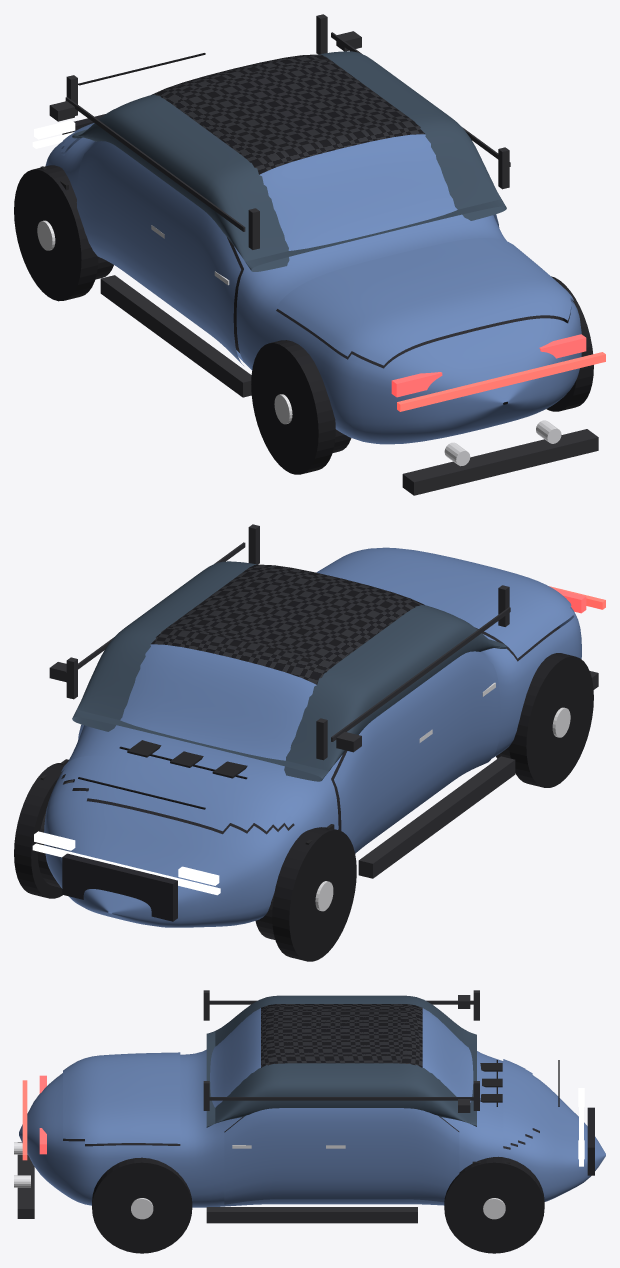
Rendered from car_gen_sedan.glb.
3 renders of one model, top to bottom at view 1: azimuth 30°, elevation 25°; view 2: azimuth 150°, elevation 25°; view 3: azimuth 270°, elevation 25°, orthographic. The views are drawn at different scales.
Visible parts, largest first — view 1: Body, Boot, Window, Door.001, Arch.003, Arch.001, Diffuser, Skirt, Rear_Light_Bar, Interior, Arch, Trim_Line.004 (+2 smaller); view 2: Body, Window, Door.001, Boot, Bonnet, Arch.001, Arch.003, Skirt, Grille, Arch.002, Interior, Trim_Line.004 (+1 smaller); view 3: Body, Door, Window, Boot, Arch.002, Arch, Skirt.001, Bonnet, Trim_Line.005, Diffuser, Grille, Interior (+4 smaller).
Part boxes in pixels (x1,y1,x2,y2): Body: [45, 54, 581, 444]; Boot: [276, 238, 573, 365]; Window: [72, 51, 506, 271]; Door.001: [76, 141, 243, 365]; Arch.003: [251, 340, 335, 474]; Arch.001: [14, 165, 98, 301]; Diffuser: [402, 429, 598, 495]; Skirt: [100, 275, 251, 397]; Rear_Light_Bar: [397, 352, 605, 411]; Interior: [227, 237, 563, 404]; Arch: [546, 276, 593, 411]; Trim_Line.004: [65, 97, 245, 231]; Body: [44, 564, 581, 927]; Window: [72, 561, 506, 781]; Door.001: [334, 651, 500, 853]; Boot: [316, 547, 574, 658]; Bonnet: [61, 755, 294, 831]; Arch.001: [272, 827, 356, 961]; Arch.003: [509, 653, 593, 787]; Skirt: [358, 756, 515, 878]; Grille: [62, 853, 177, 921]; Arch.002: [14, 763, 74, 898]; Interior: [72, 626, 559, 834]; Trim_Line.004: [331, 607, 510, 741]; Body: [19, 1004, 605, 1207]; Door: [224, 1108, 459, 1204]; Window: [206, 995, 476, 1127]; Boot: [63, 1052, 180, 1143]; Arch.002: [444, 1156, 544, 1253]; Arch: [92, 1157, 192, 1253]; Skirt.001: [206, 1207, 417, 1223]; Bonnet: [503, 1059, 539, 1147]; Trim_Line.005: [209, 1097, 473, 1100]; Diffuser: [17, 1142, 34, 1218]; Grille: [587, 1107, 594, 1175]; Interior: [63, 1116, 539, 1149].
Bounding box in the file's own units: 2.13 × 1.58 × 4.84.
Materials: 17 (1 with a texture image).
